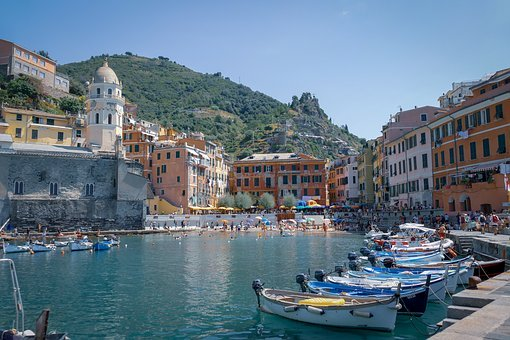lake: (6, 230, 333, 333)
mountain: (104, 47, 368, 147)
sky: (10, 1, 506, 70)
vilage: (9, 105, 510, 216)
